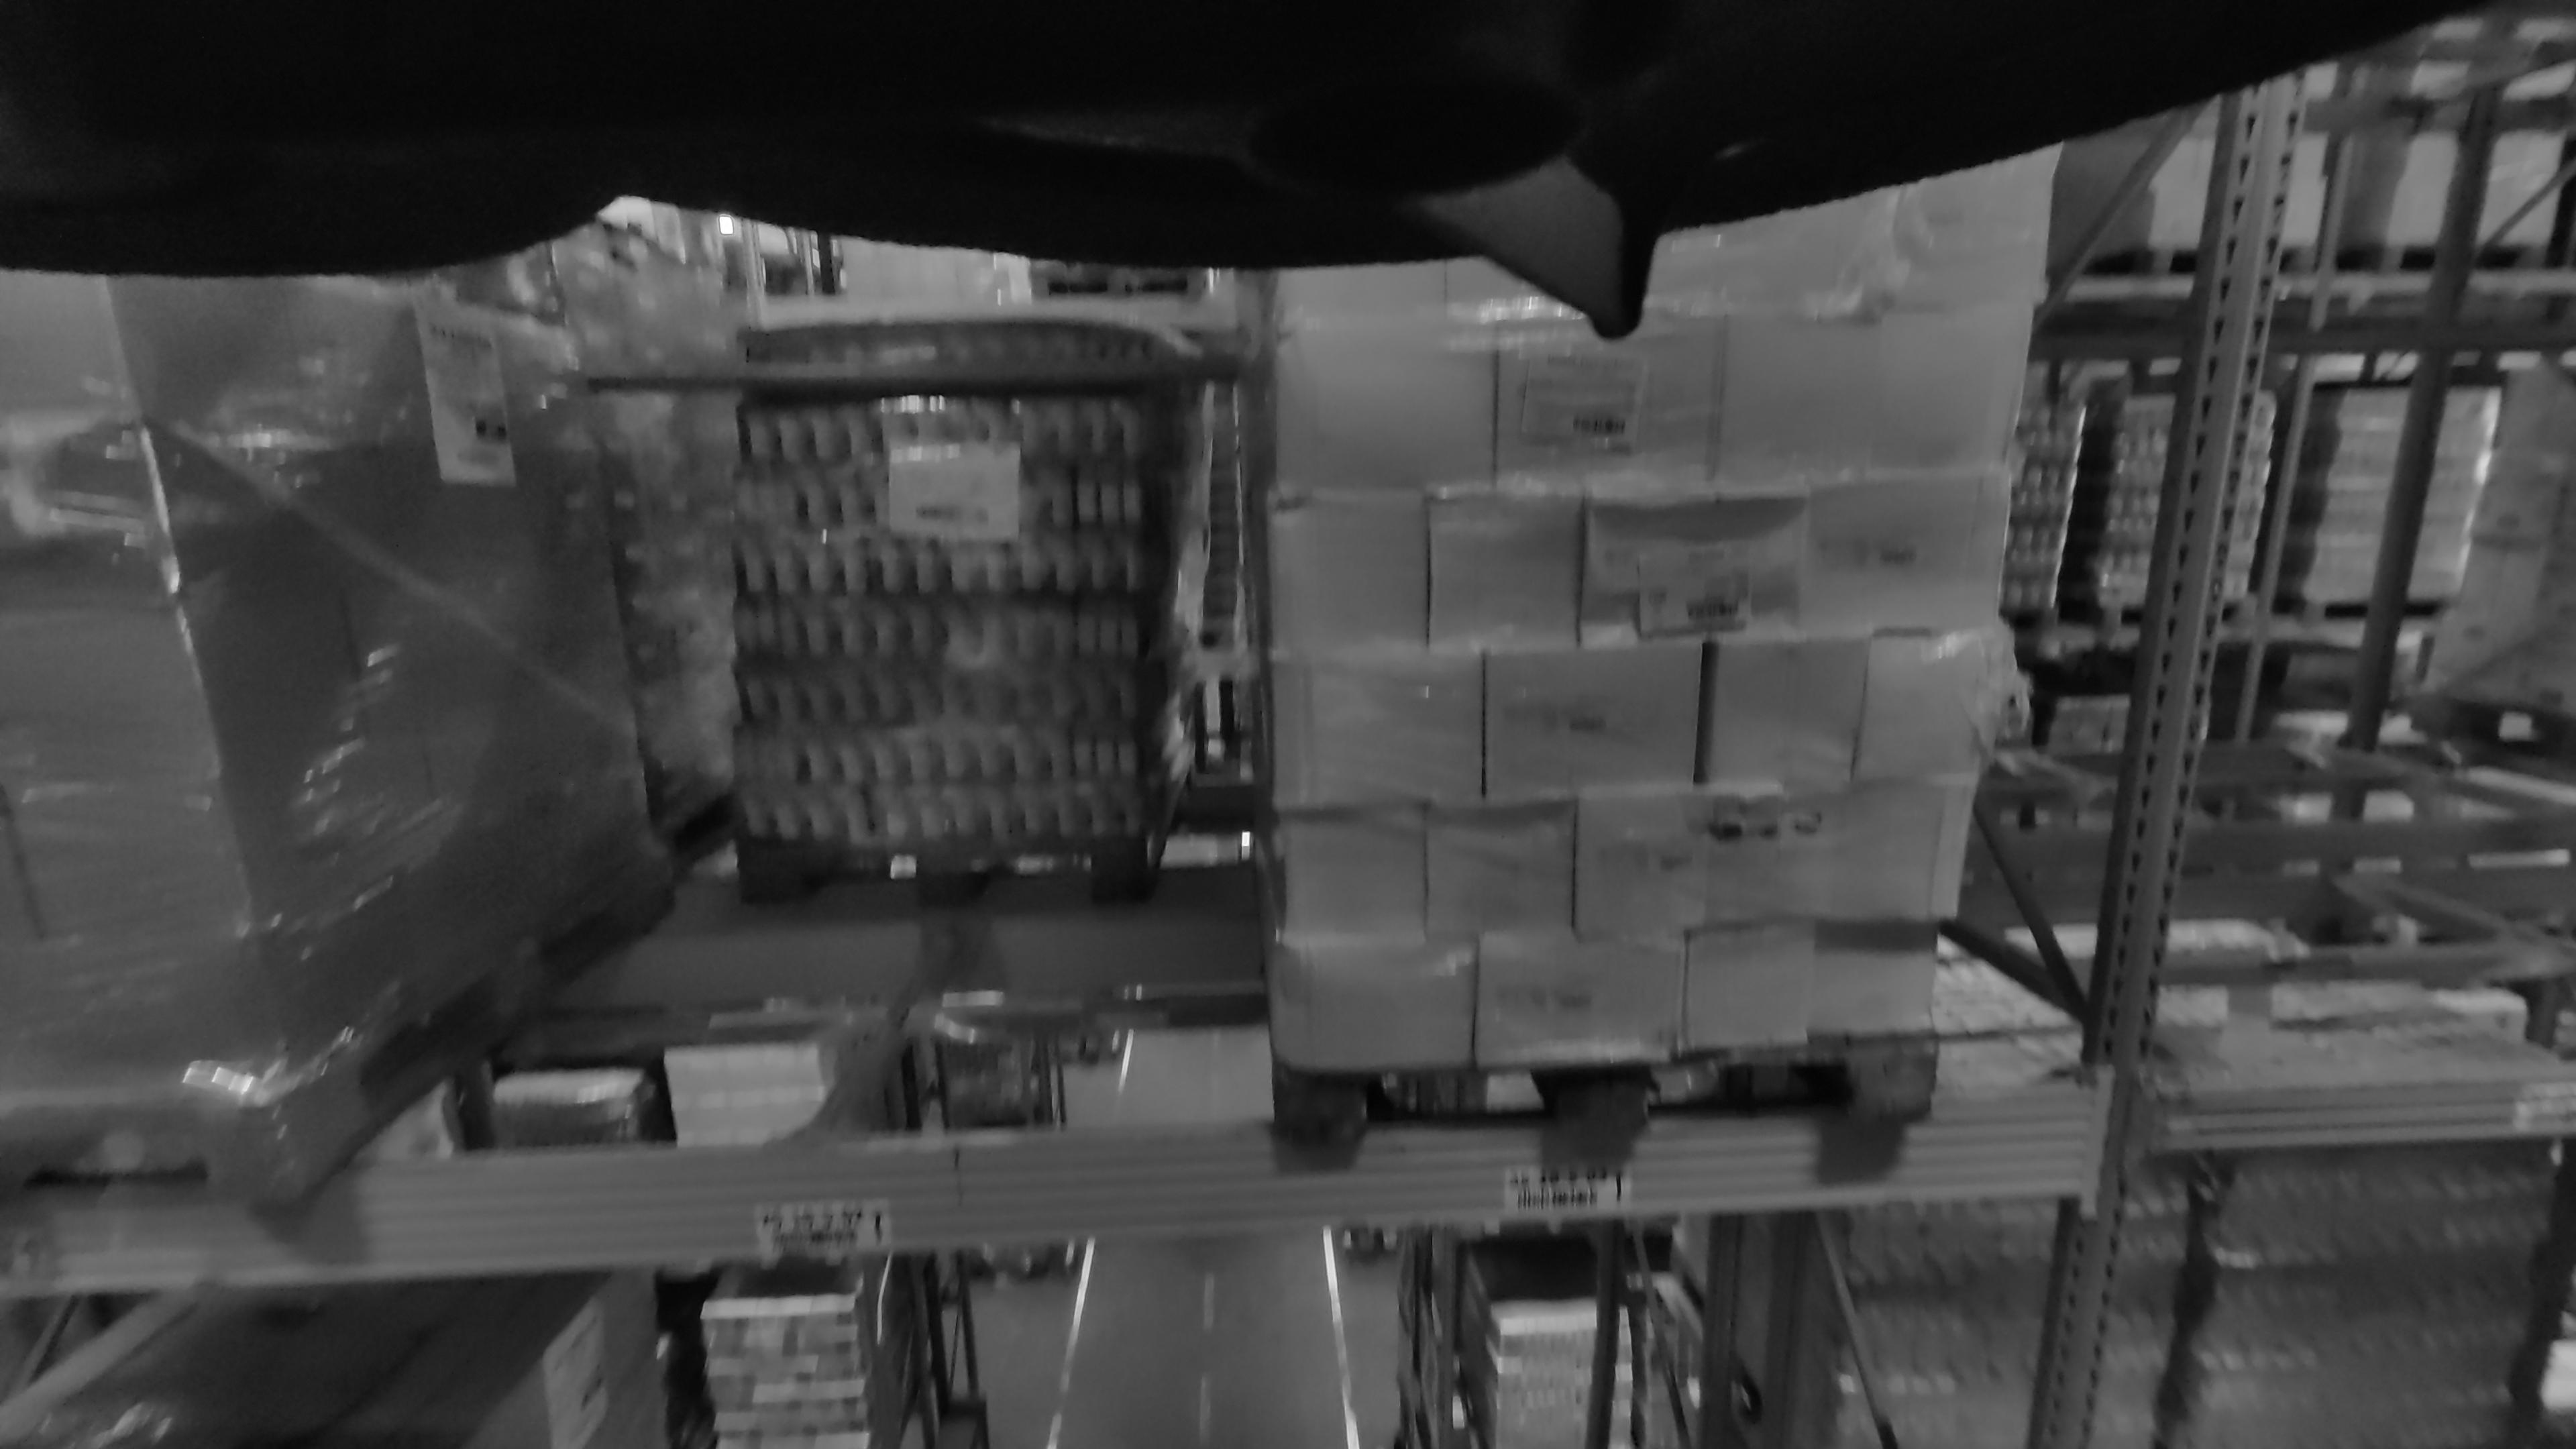empty-shelf: (550, 179, 1226, 1141), (2231, 0, 2576, 1092), (2243, 0, 2565, 846)
